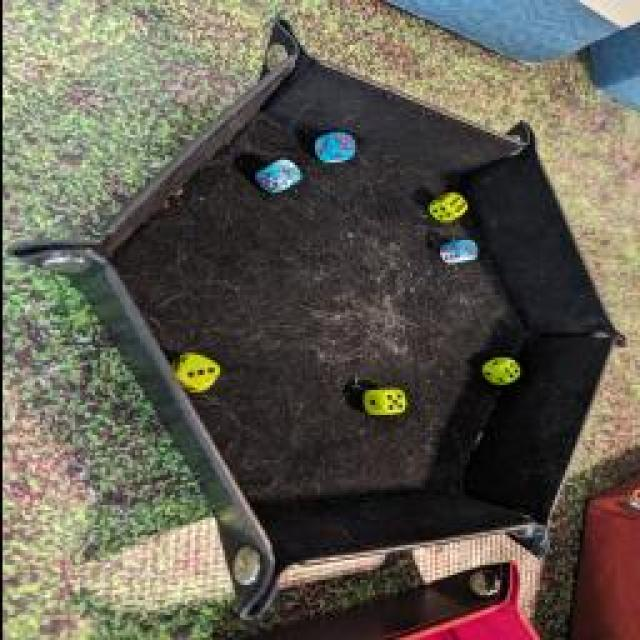dice_1: (245, 156, 303, 196)
dice_3: (166, 351, 222, 394), (436, 237, 482, 265)
dice_4: (478, 355, 524, 385)
dice_5: (312, 130, 352, 170), (358, 384, 404, 416)
dice_6: (429, 192, 469, 222)
